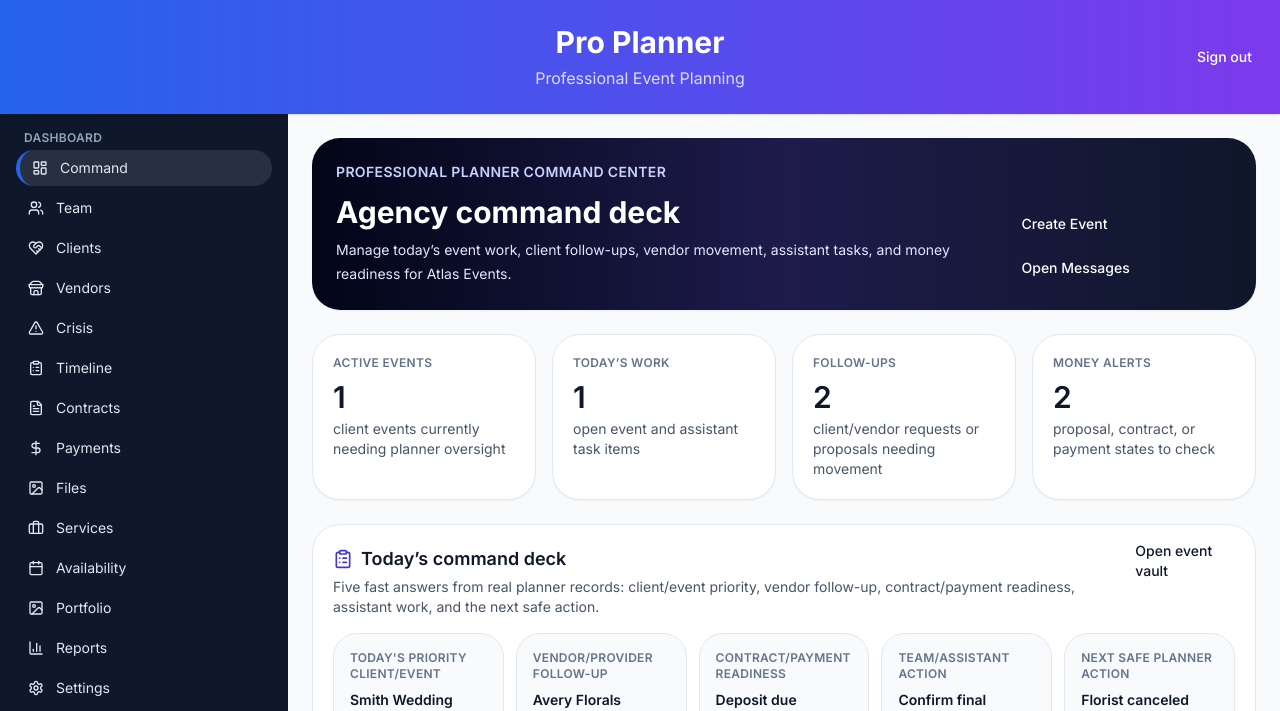
Test: ProPlannerDashboard › keeps Settings from routing pro planners into vendor or venue Stripe Connect setup
Click the button "Settings". click: coordinates (144, 688)
box: [16,670,272,706]
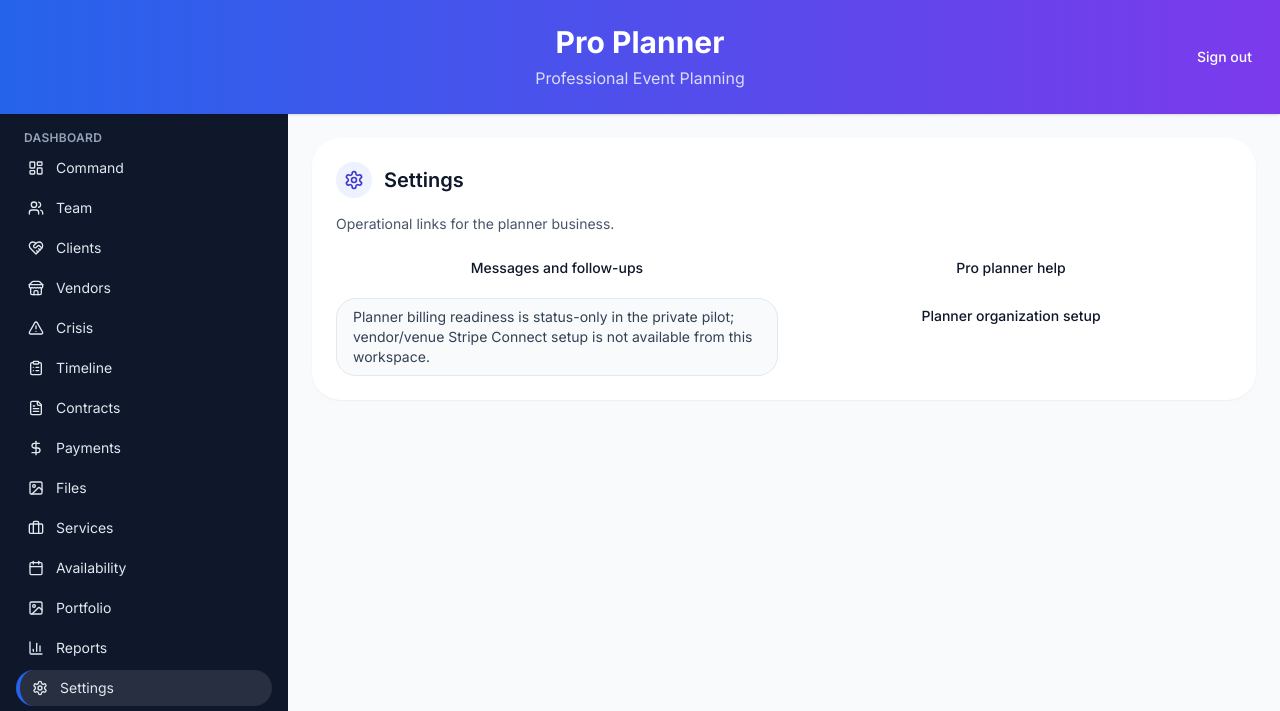
Now the text "vendor/venue Stripe Connect setup is not available" is shown, box [353,308,752,364]
